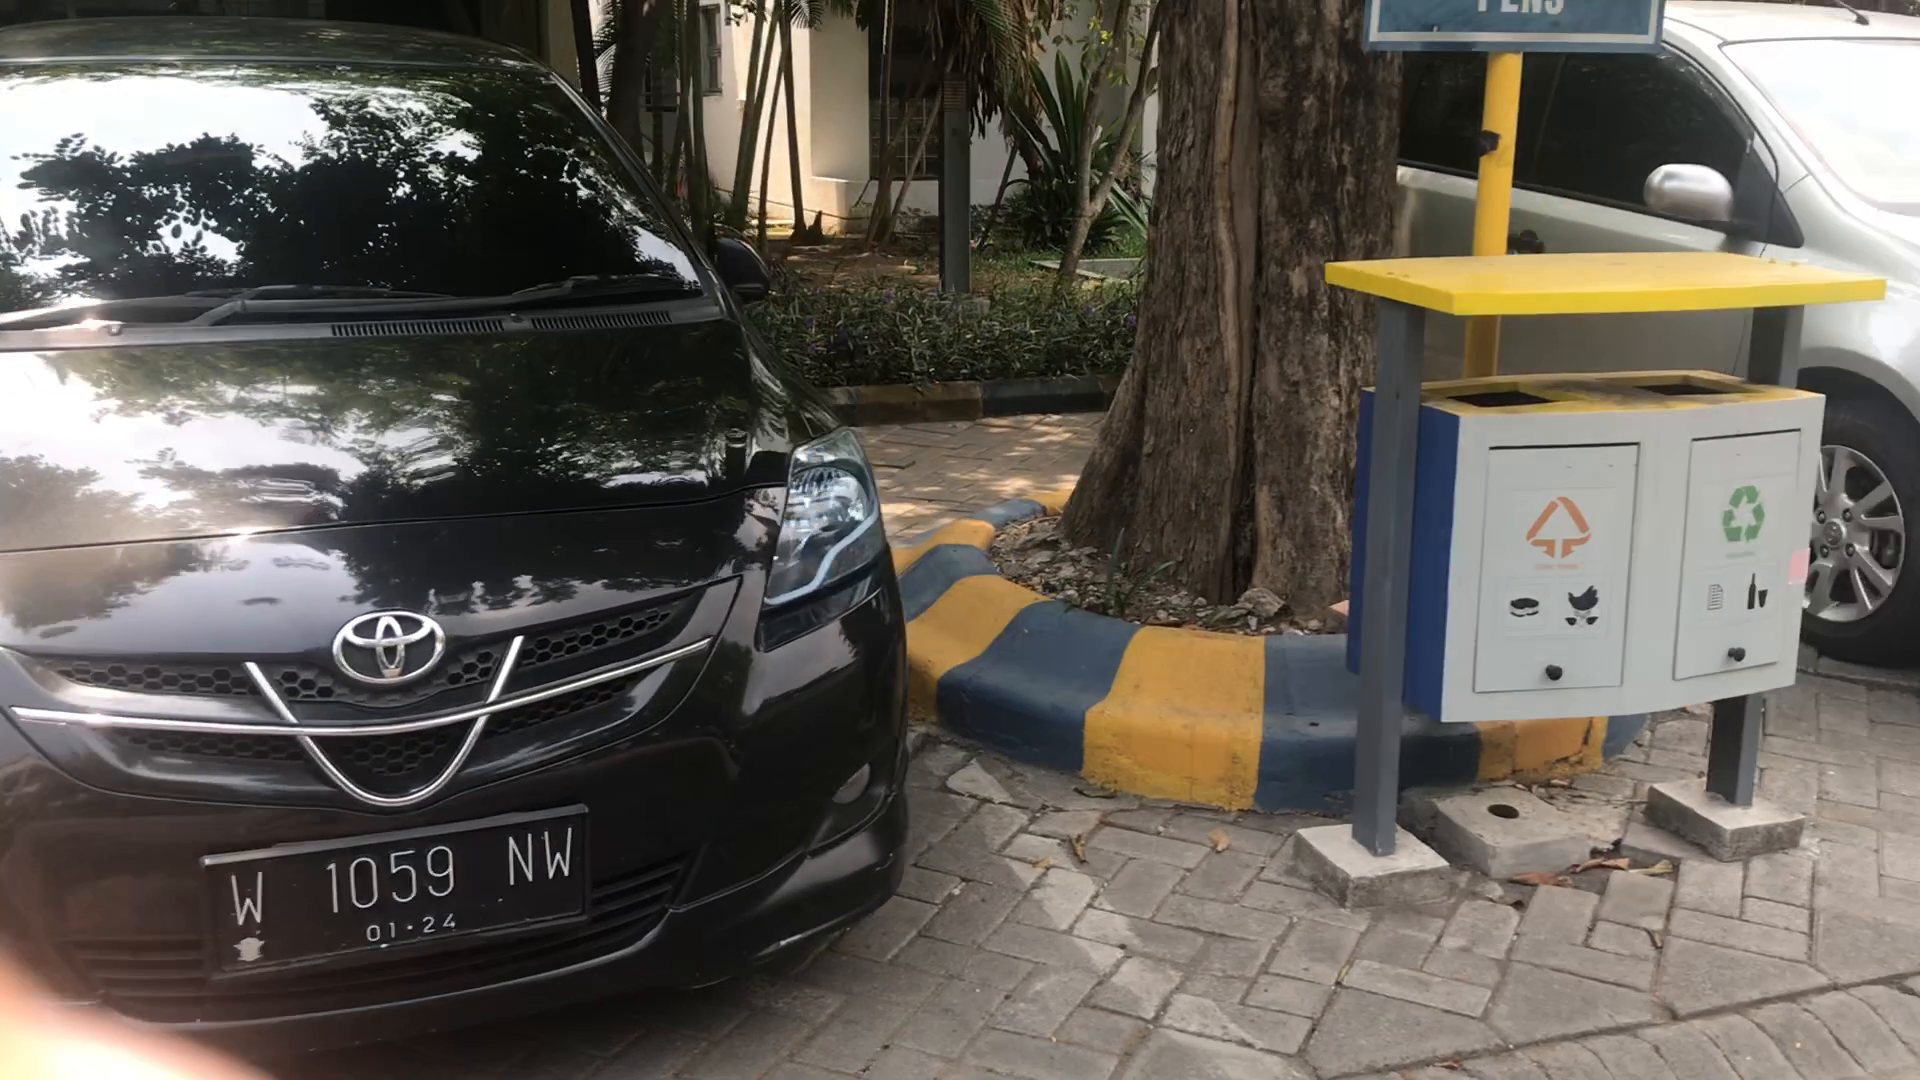plate: (215, 797, 585, 970)
